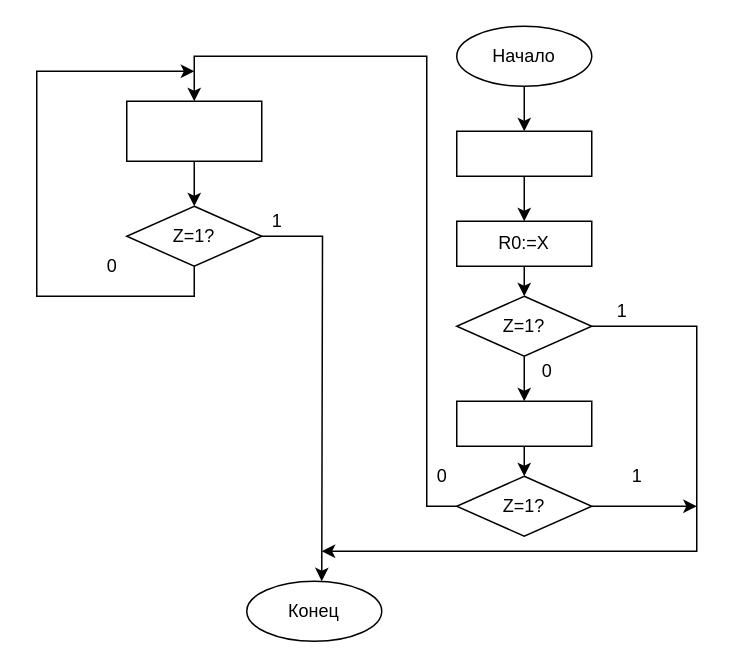
Image size: 735x668. Some labels were removed from this diagram. Each missing label, with the centre of its shape:
"R8:=0" belongs at pixel 523 153.
"RQ:=RQ-1 R8:=R8+R0" belongs at pixel 193 130.
"RQ:=Y" belongs at pixel 523 423.
